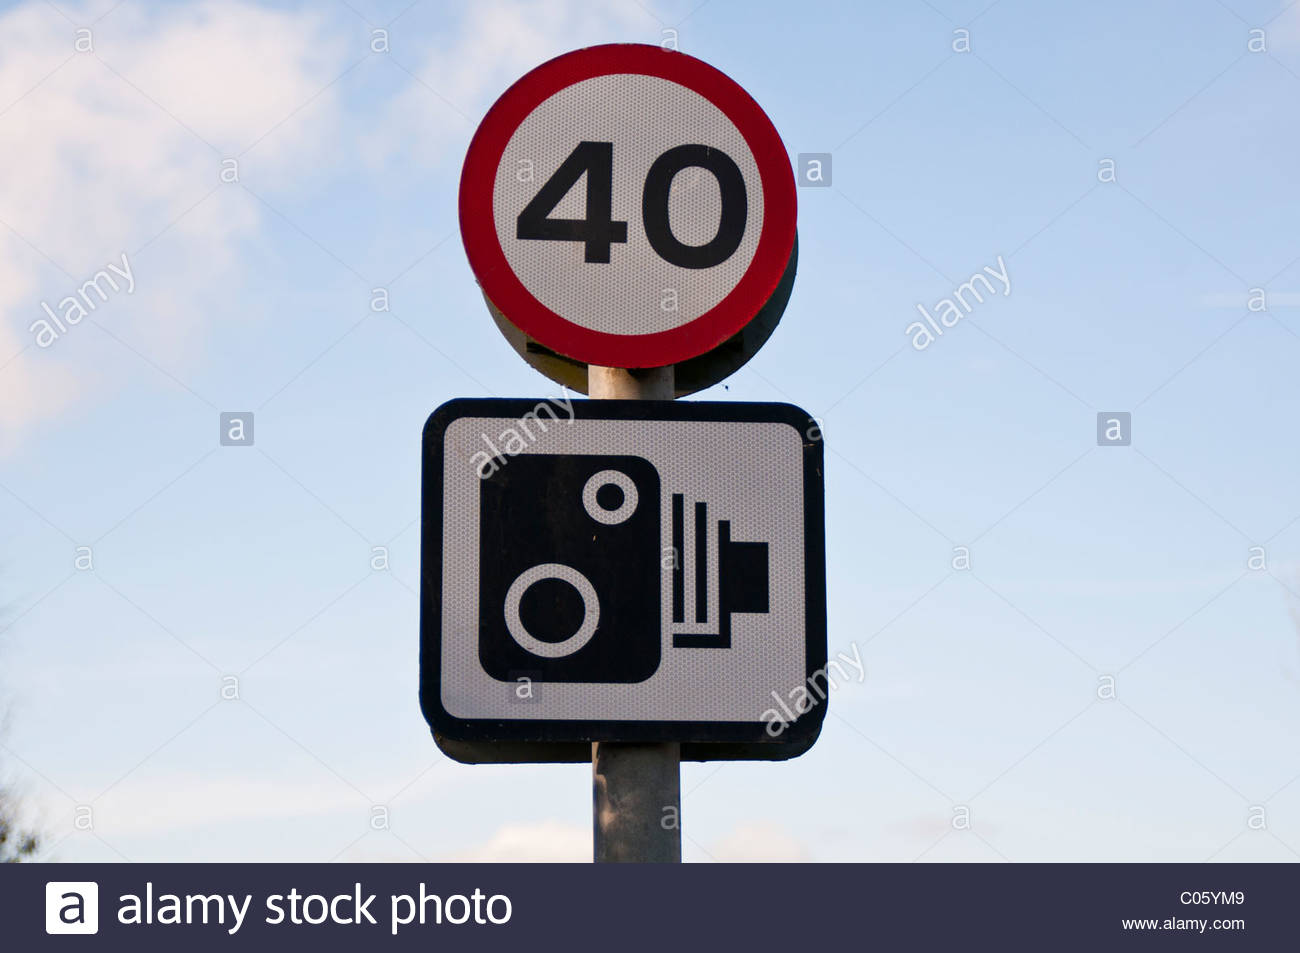Speed_limit_40km: (456, 45, 800, 368)
